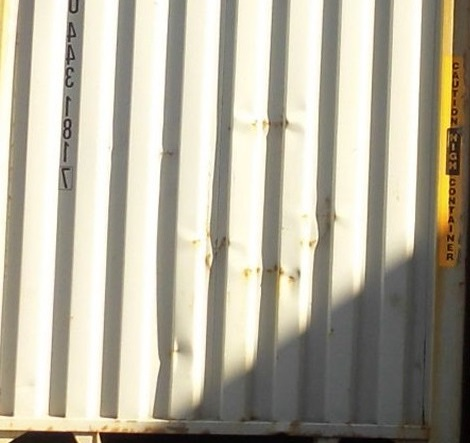container_no_door: (5, 1, 463, 440)
